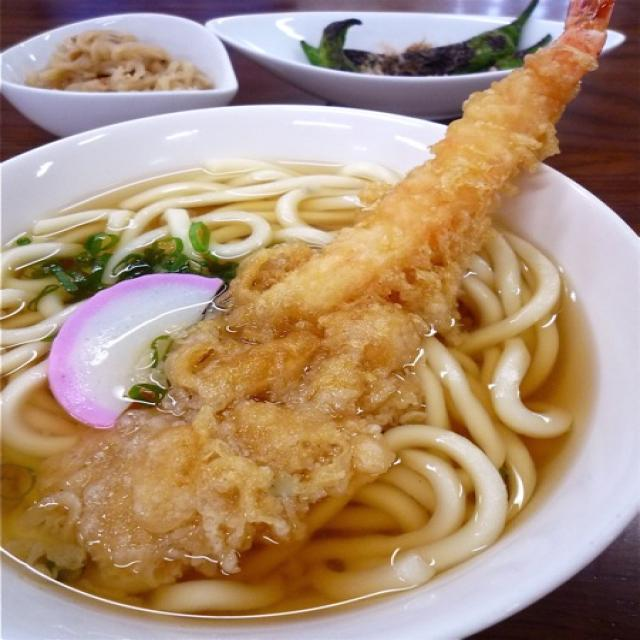面条主食: (0, 160, 596, 609)
